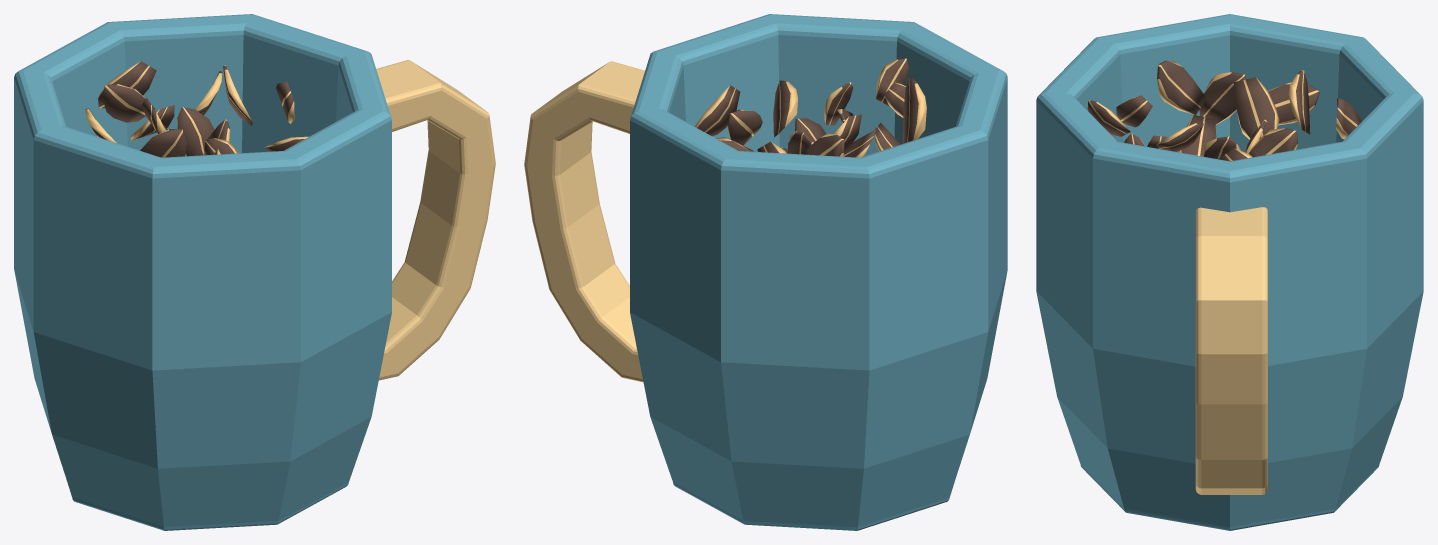
Rendered from Cup (empty) Sunflower.fbx.
3 views of the same model, side by side, from view 1: azimuth 30°, elevation 25°; view 2: azimuth 150°, elevation 25°; view 3: azimuth 270°, elevation 25° (orthographic).
Visible parts, largest first — view 1: CupEmptySunflower; view 2: CupEmptySunflower; view 3: CupEmptySunflower.
Boxes of the visible parts, x1,y1,x2,y2 form: CupEmptySunflower: (14,14,495,530); CupEmptySunflower: (524,14,1007,530); CupEmptySunflower: (1036,14,1423,530).
Bounding box in the file's own units: 39.57 × 32.25 × 30.
